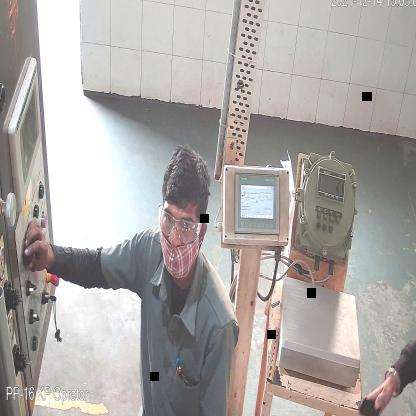goggles: (160, 212, 205, 244)
